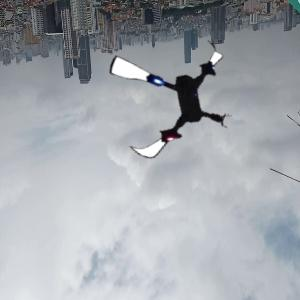drone: (100, 27, 239, 166)
